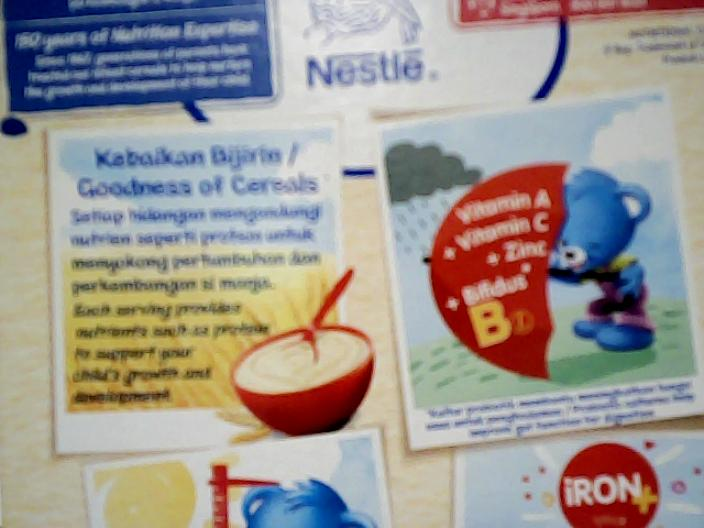Babyfood_200-299g_Halal_NonHealthy: (4, 1, 704, 528)
